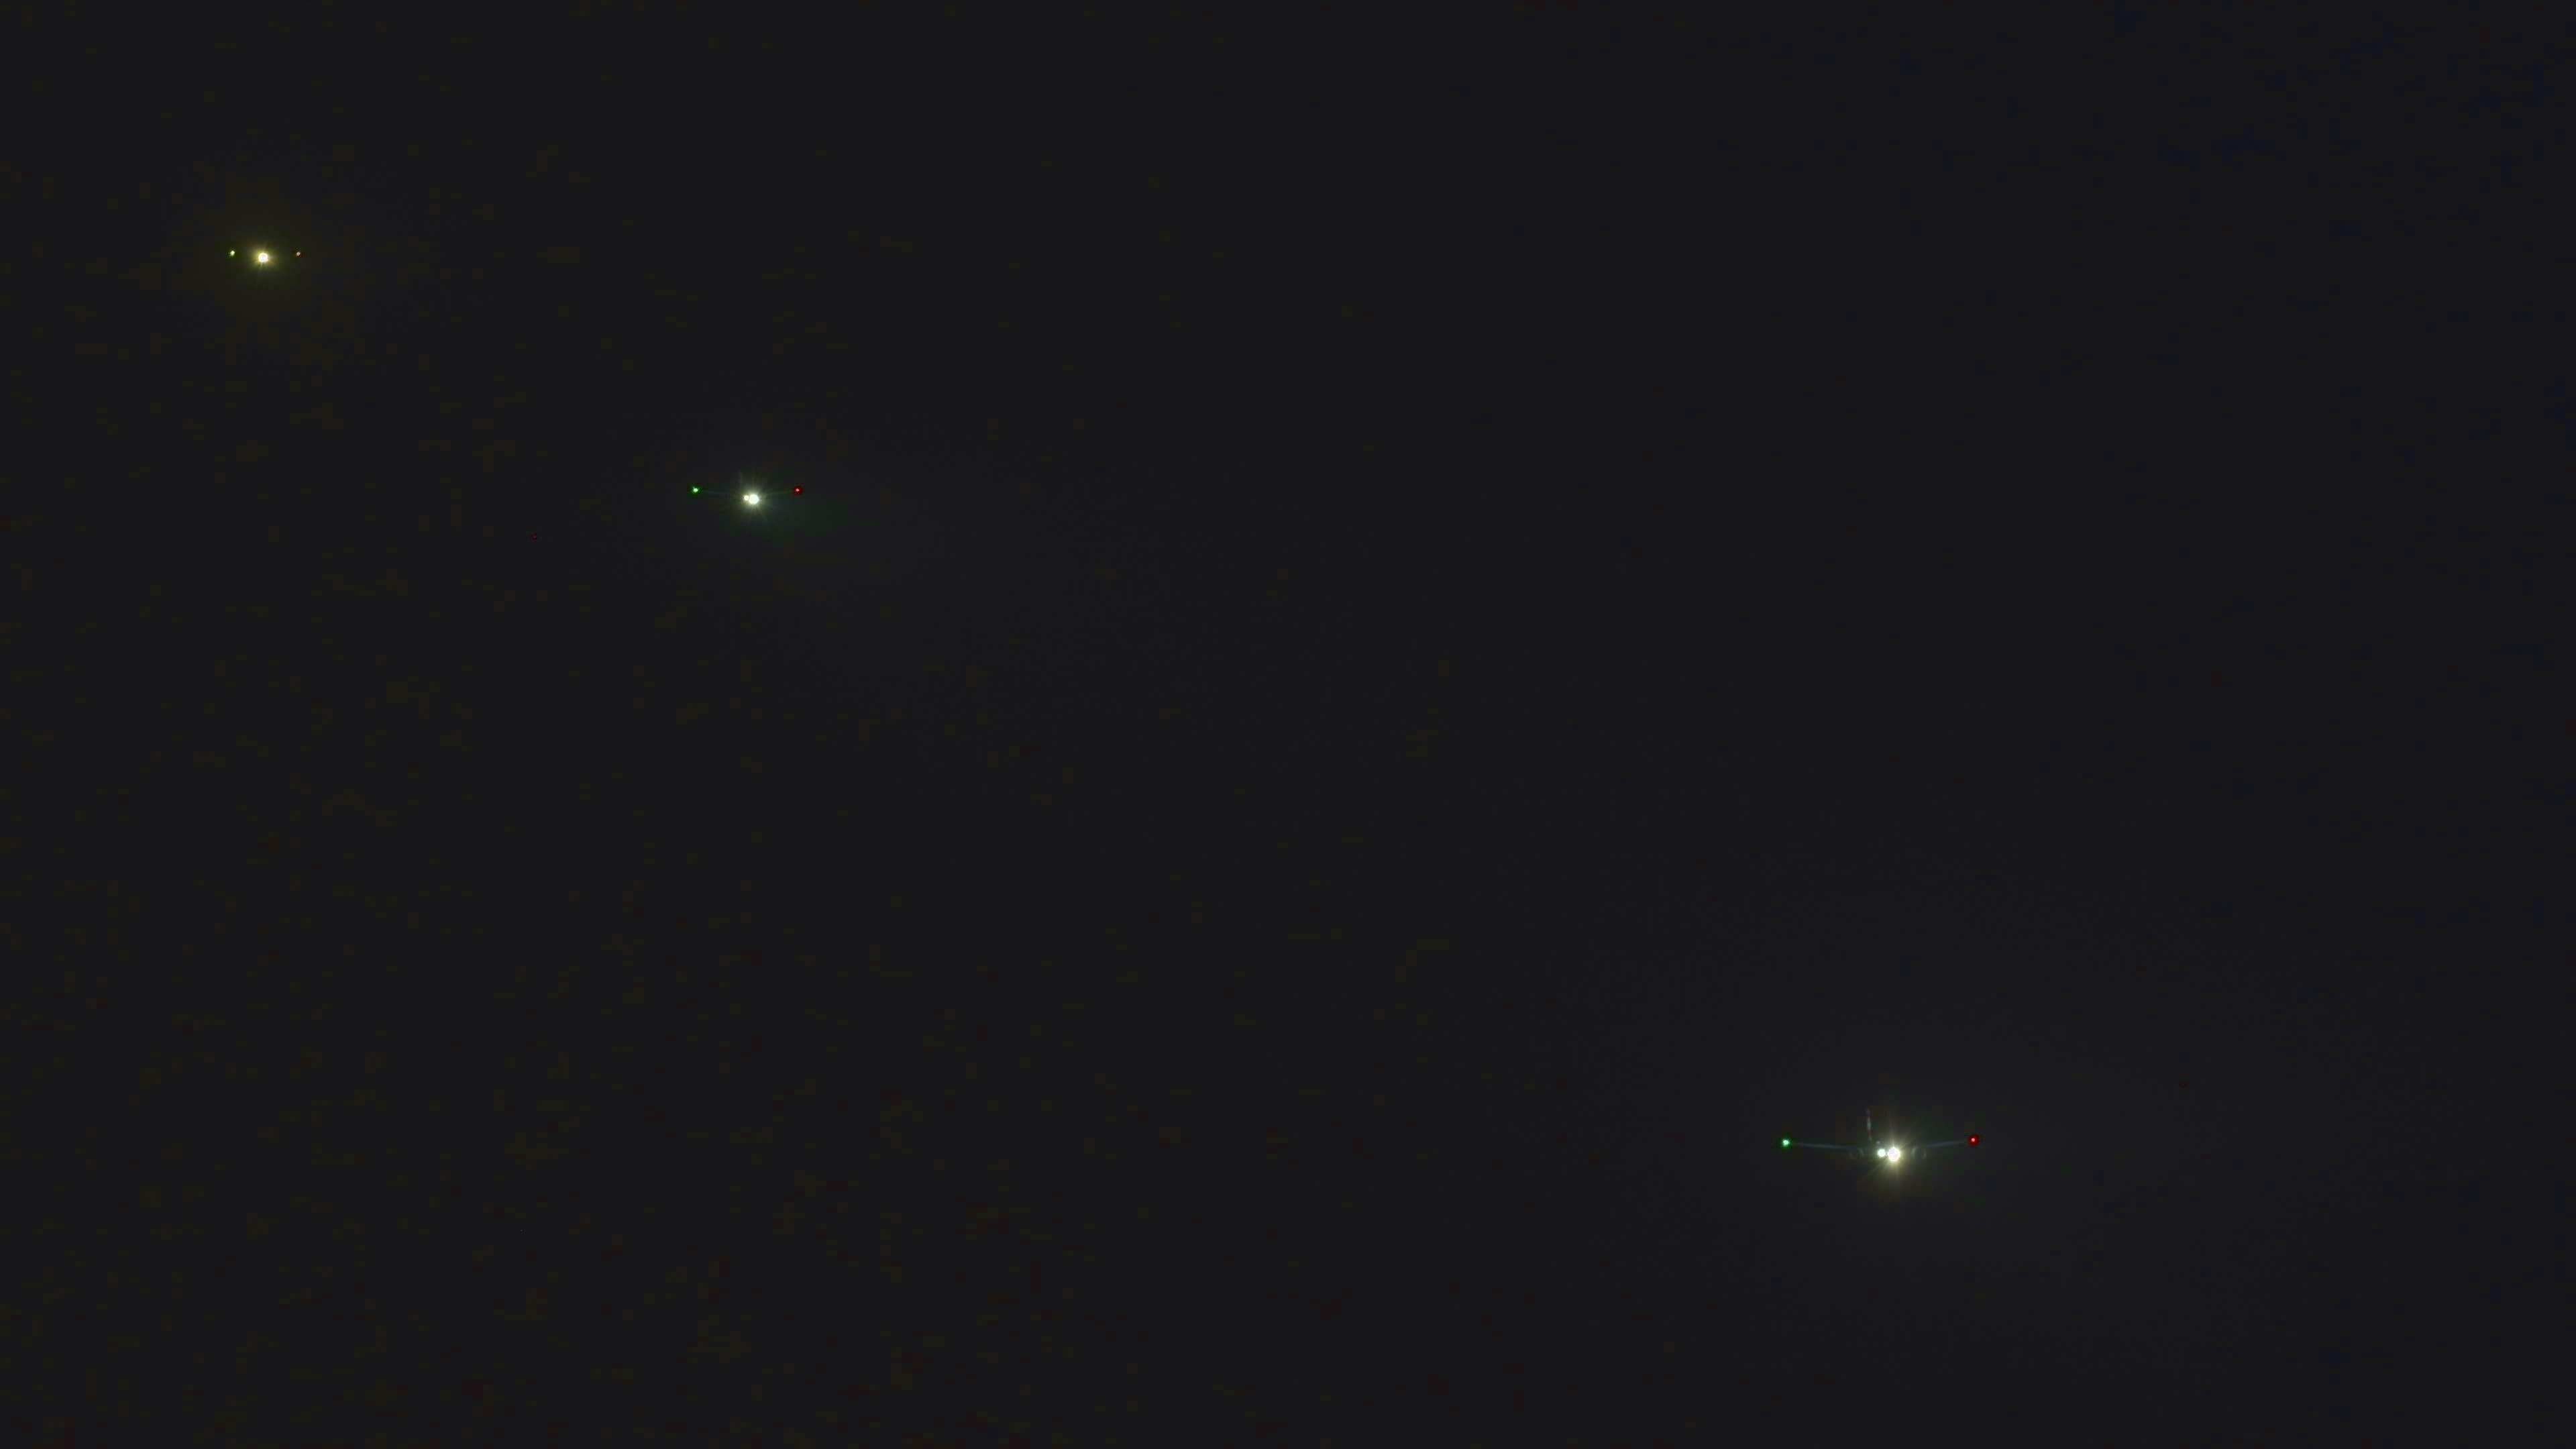Plane: (1690, 1086, 2058, 1196), (644, 449, 869, 550), (203, 223, 331, 292)
